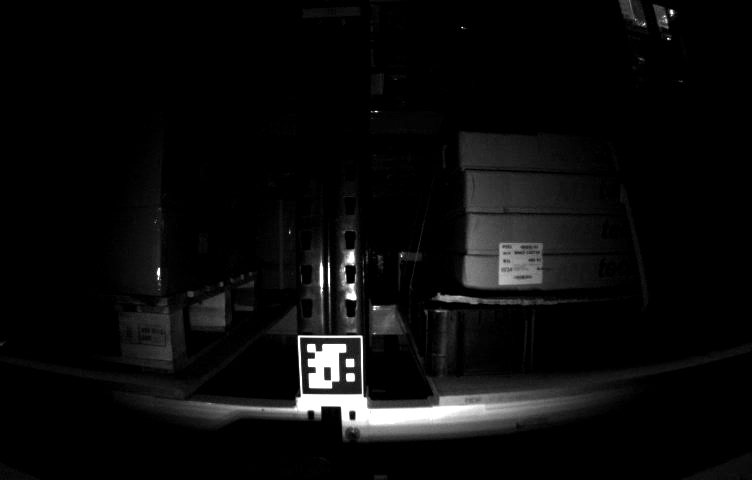True Barcode: (496, 239, 545, 288)
